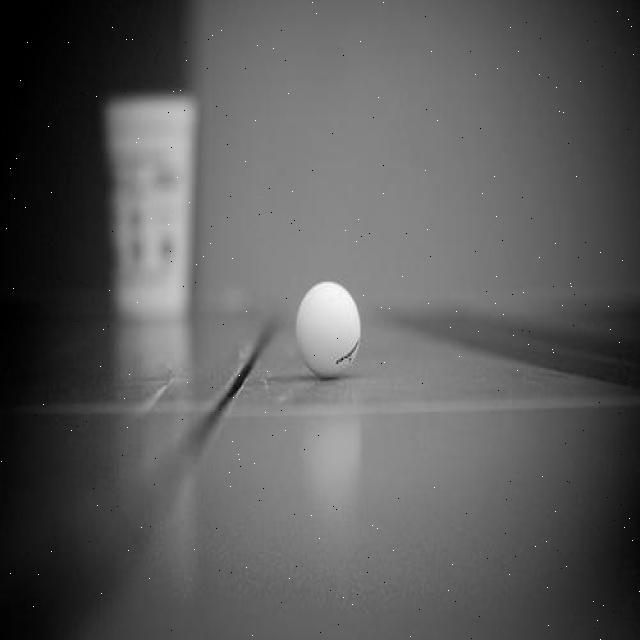ping-pong-ball: (294, 280, 362, 383)
